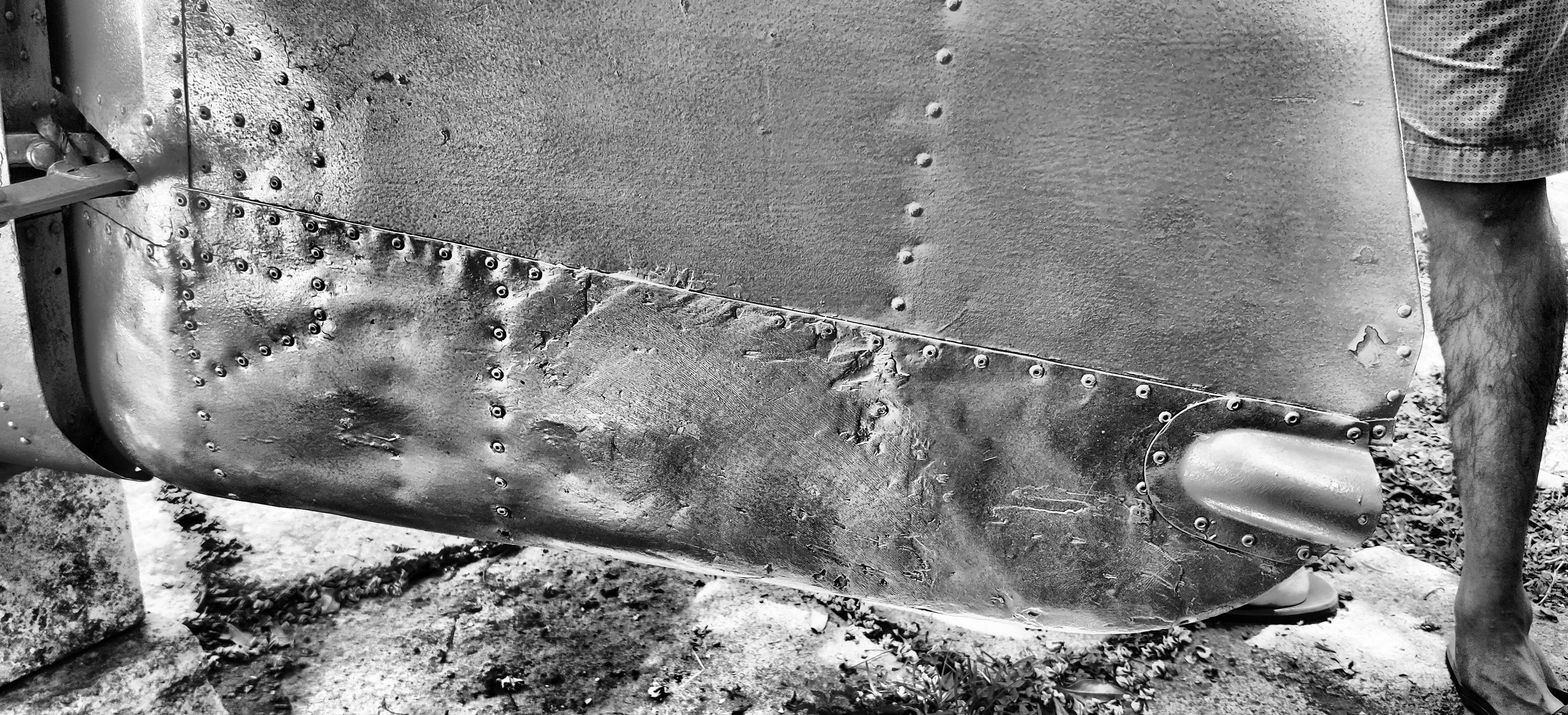missing-head: (53, 267, 64, 275), (502, 530, 510, 537)
paint-peel-off: (1349, 325, 1391, 356), (1194, 535, 1245, 557), (1356, 248, 1375, 264)
scratch: (1271, 97, 1316, 101)
